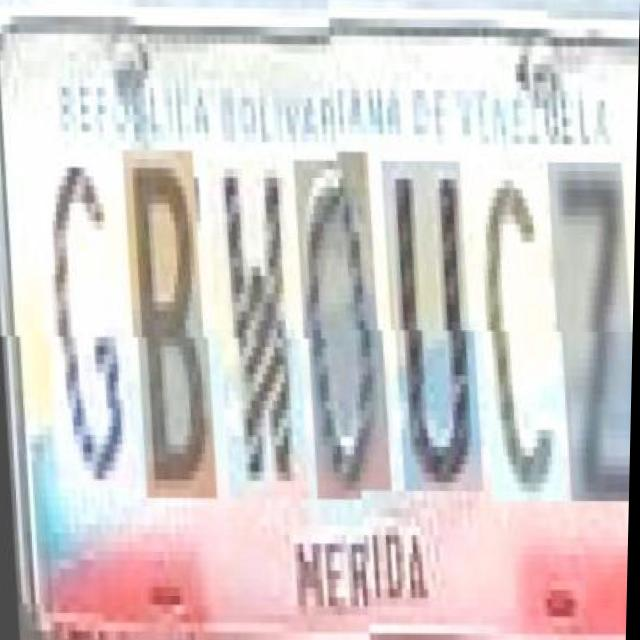b: (118, 150, 217, 498)
c: (465, 178, 568, 508)
g: (31, 150, 137, 488)
o: (289, 160, 391, 499)
u: (377, 170, 483, 500)
w: (203, 160, 309, 499)
z: (543, 169, 637, 508)
